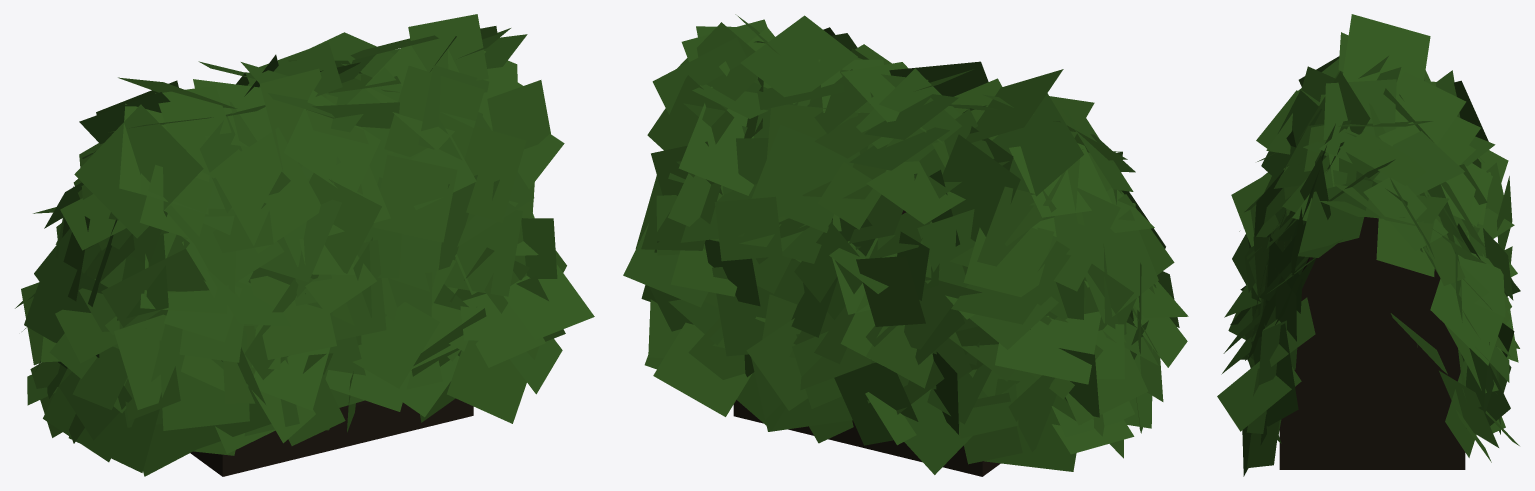
The model's file is hedge_end.glb.
3 views of the same model, side by side, from view 1: azimuth 30°, elevation 25°; view 2: azimuth 150°, elevation 25°; view 3: azimuth 270°, elevation 25° (orthographic). The views are drawn at different scales.
Visible parts, largest first — view 1: hedge_end_lod0; view 2: hedge_end_lod0; view 3: hedge_end_lod0.
Boxes of the visible parts, bbox=[...] form: hedge_end_lod0: bbox=[15, 14, 594, 476]; hedge_end_lod0: bbox=[623, 14, 1188, 476]; hedge_end_lod0: bbox=[1217, 14, 1520, 476].
Size of what is drawn, in the model's own units: 3.28 by 2.4 by 1.97.
